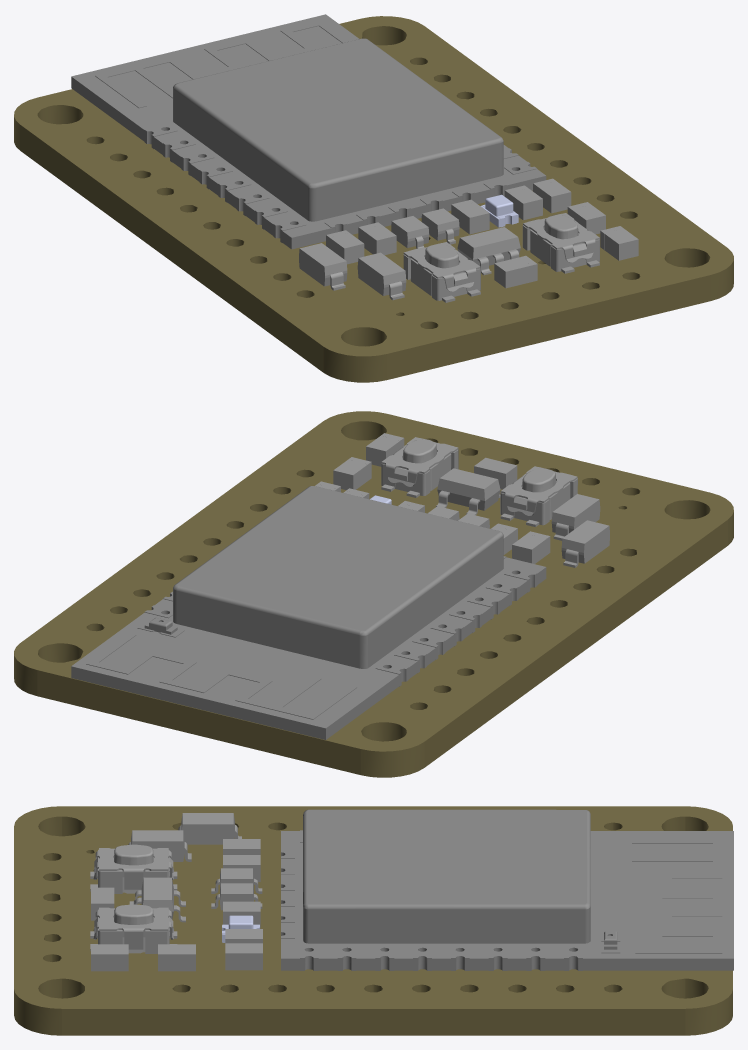
The model's file is ada-2471.glb.
The picture shows the model from 3 angles, top to bottom: view 1: azimuth 30°, elevation 25°; view 2: azimuth 150°, elevation 25°; view 3: azimuth 270°, elevation 25°; orthographic projection. The views are drawn at different scales.
Parts seen in each view (by area): view 1: 0.16666666666666666_0.16666666666666666_0.08333333333333333_, 0.25_0.25_0.25_0, 0.3333333333333333_0.3333333333333333_0.3333333333333333_0, 0.5833333333333334_0.6666666666666666_0.8333333333333334_0; view 2: 0.16666666666666666_0.16666666666666666_0.08333333333333333_, 0.25_0.25_0.25_0, 0.3333333333333333_0.3333333333333333_0.3333333333333333_0; view 3: 0.16666666666666666_0.16666666666666666_0.08333333333333333_, 0.25_0.25_0.25_0, 0.3333333333333333_0.3333333333333333_0.3333333333333333_0, 0.5833333333333334_0.6666666666666666_0.8333333333333334_0.
Part boxes in pixels (x1,y1,x2,y2): 0.16666666666666666_0.16666666666666666_0.08333333333333333_: (14,16,733,382); 0.25_0.25_0.25_0: (71,14,546,249); 0.3333333333333333_0.3333333333333333_0.3333333333333333_0: (299,178,638,302); 0.5833333333333334_0.6666666666666666_0.8333333333333334_0: (480,194,518,227); 0.16666666666666666_0.16666666666666666_0.08333333333333333_: (14,411,733,777); 0.25_0.25_0.25_0: (71,486,546,739); 0.3333333333333333_0.3333333333333333_0.3333333333333333_0: (315,433,609,567); 0.16666666666666666_0.16666666666666666_0.08333333333333333_: (14,806,732,1035); 0.25_0.25_0.25_0: (281,809,733,970); 0.3333333333333333_0.3333333333333333_0.3333333333333333_0: (90,813,262,971); 0.5833333333333334_0.6666666666666666_0.8333333333333334_0: (222,915,259,942).
Size of the model in its own units: 2.54 by 0.4521 by 3.81.
